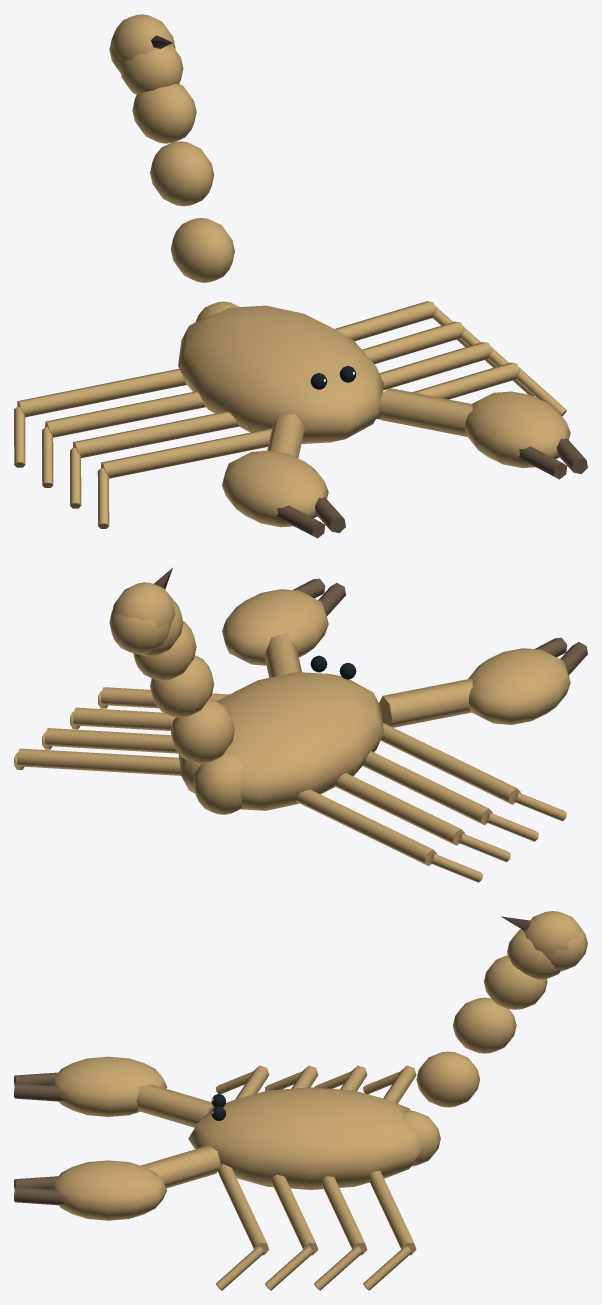
File: scorpion.glb
3 renders of one model, top to bottom at view 1: azimuth 30°, elevation 25°; view 2: azimuth 150°, elevation 25°; view 3: azimuth 270°, elevation 25°, orthographic. The views are drawn at different scales.
Visible parts, largest first — view 1: skin (×21), accent (×4); view 2: skin (×24), accent (×2); view 3: skin (×22), accent (×2).
Part boxes in pixels (x1,y1,x2,y2): skin (×21): (14,14,570,527); accent (×4): (276,437,587,538); skin (×24): (17,582,570,882); accent (×2): (318,583,587,675); skin (×22): (50,911,587,1290); accent (×2): (14,1083,63,1205).
Bounding box in the file's own units: 3.87 × 2.51 × 4.68.
